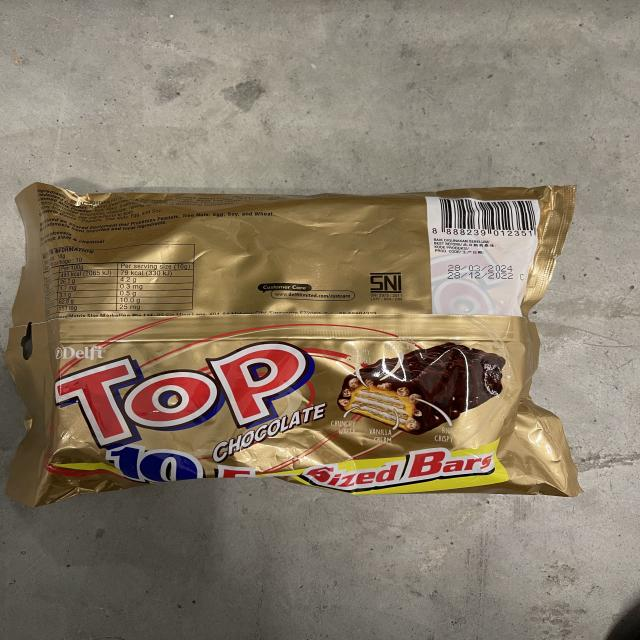object_name: (23, 194, 557, 483)
